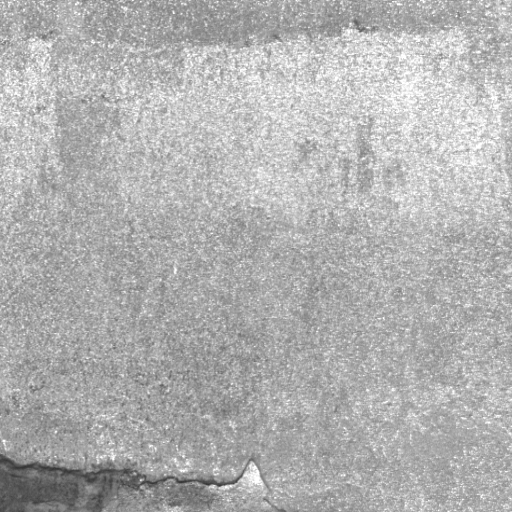aokeng: (3, 450, 283, 512)
